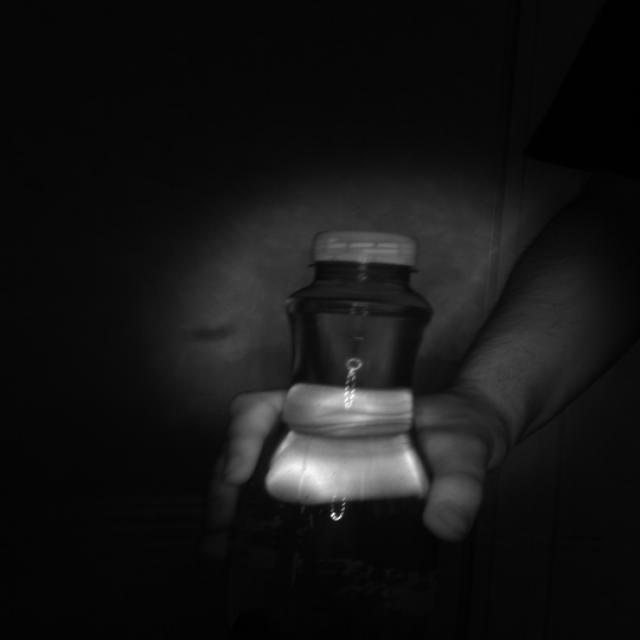Good: (310, 230, 419, 267)
